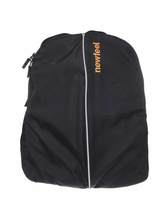bag: (19, 30, 155, 190)
